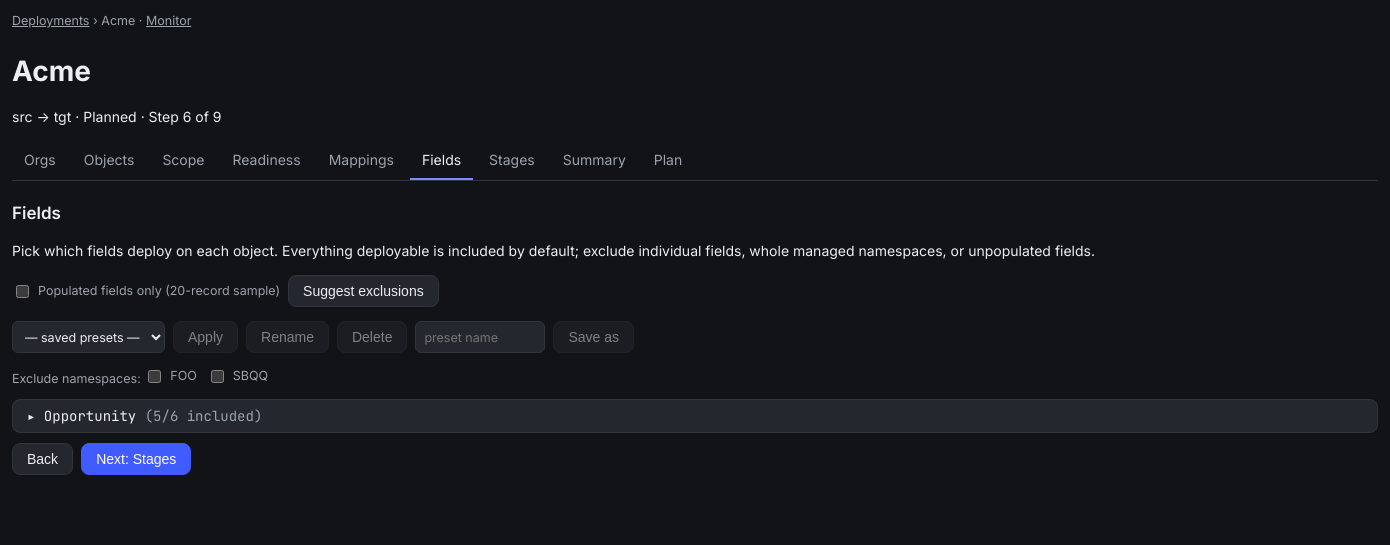
Test: StepFields (5B.6) › template Apply merges per object — exclusions on uncovered objects survive
Check: the heading "Fields" is shown, box [12, 202, 61, 222]
Step 1. Select "opp-only" in the dropdown named "Saved fields preset" → (88, 337), box [12, 321, 165, 353]
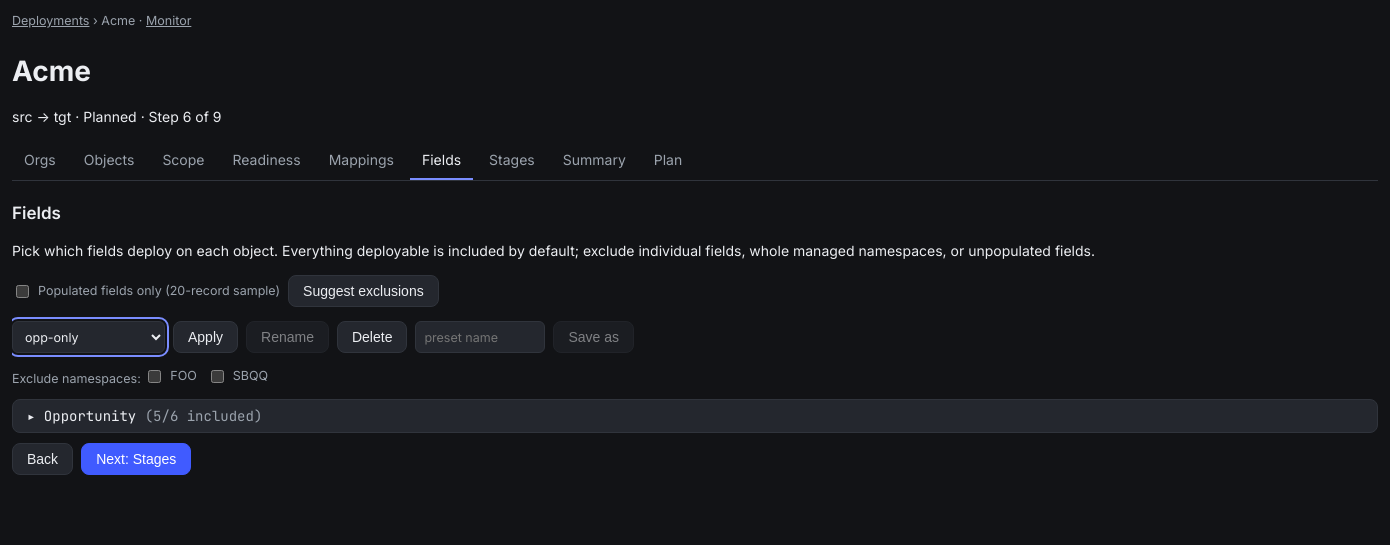
Step 2. Click the button "Apply" → (206, 337), box [173, 321, 238, 353]
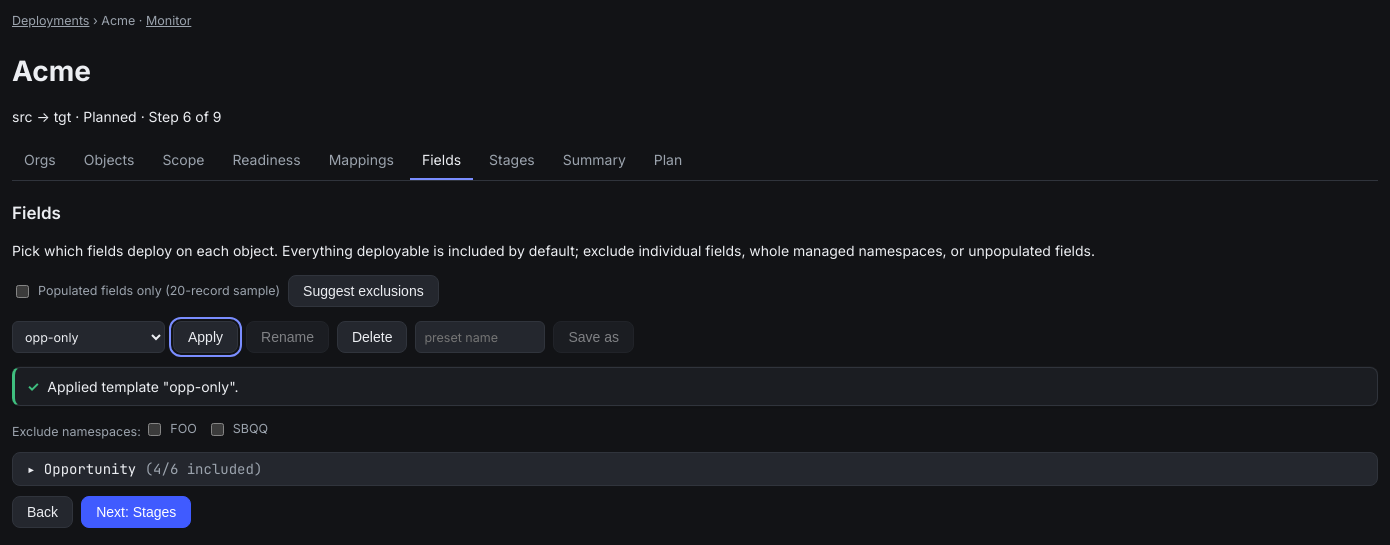
Check: the text "Applied template \"opp-only\"." is shown, box [47, 378, 239, 395]
